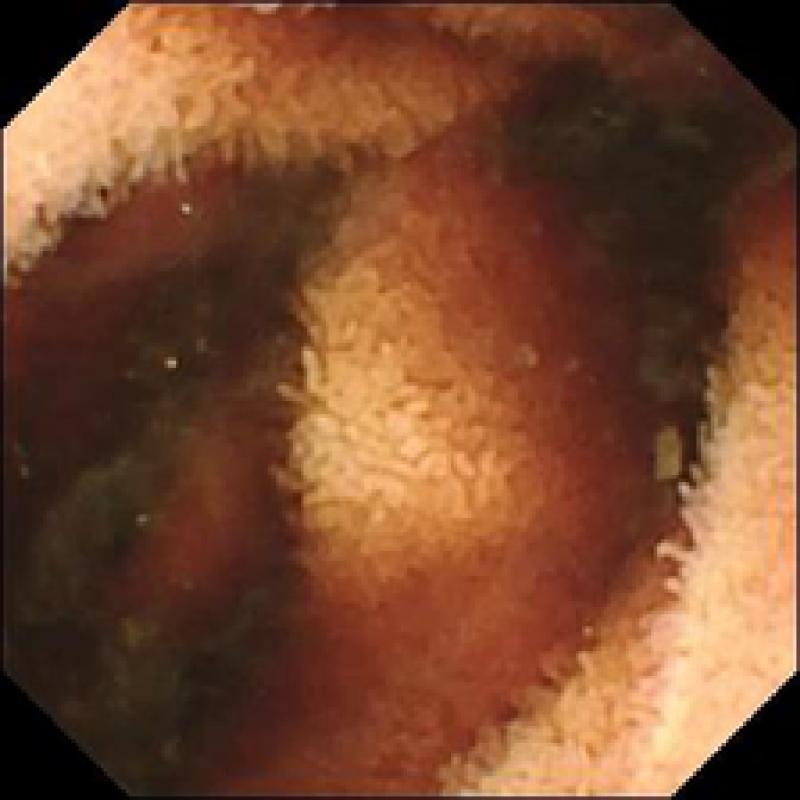bleeding: (111, 418, 250, 618)
